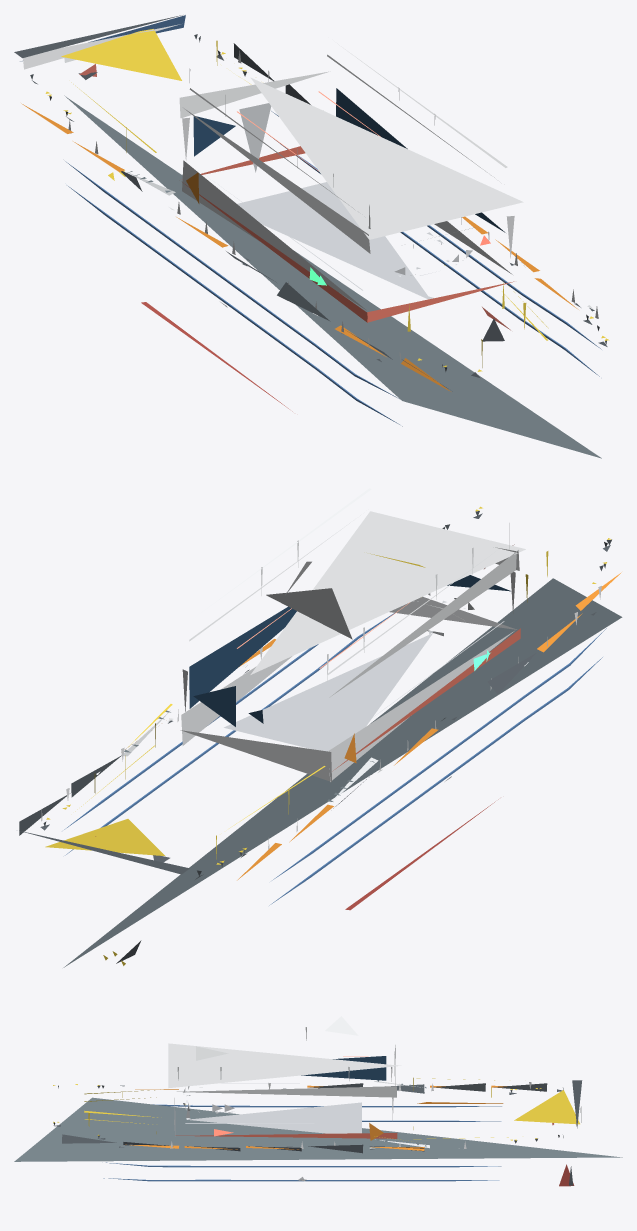
The model's file is ship_06.glb.
3 renders of one model, top to bottom at view 1: azimuth 30°, elevation 25°; view 2: azimuth 150°, elevation 25°; view 3: azimuth 270°, elevation 25°, orthographic. The views are drawn at different scales.
Visible parts, largest first — view 1: TrueHelm_Ship_06; view 2: TrueHelm_Ship_06; view 3: TrueHelm_Ship_06.
Part boxes in pixels (bbox=[...]): TrueHelm_Ship_06: bbox=[14, 15, 609, 458]; TrueHelm_Ship_06: bbox=[19, 488, 622, 967]; TrueHelm_Ship_06: bbox=[14, 1016, 622, 1186].
Size of the model in its own units: 0.1233 by 0.1492 by 0.4907.
